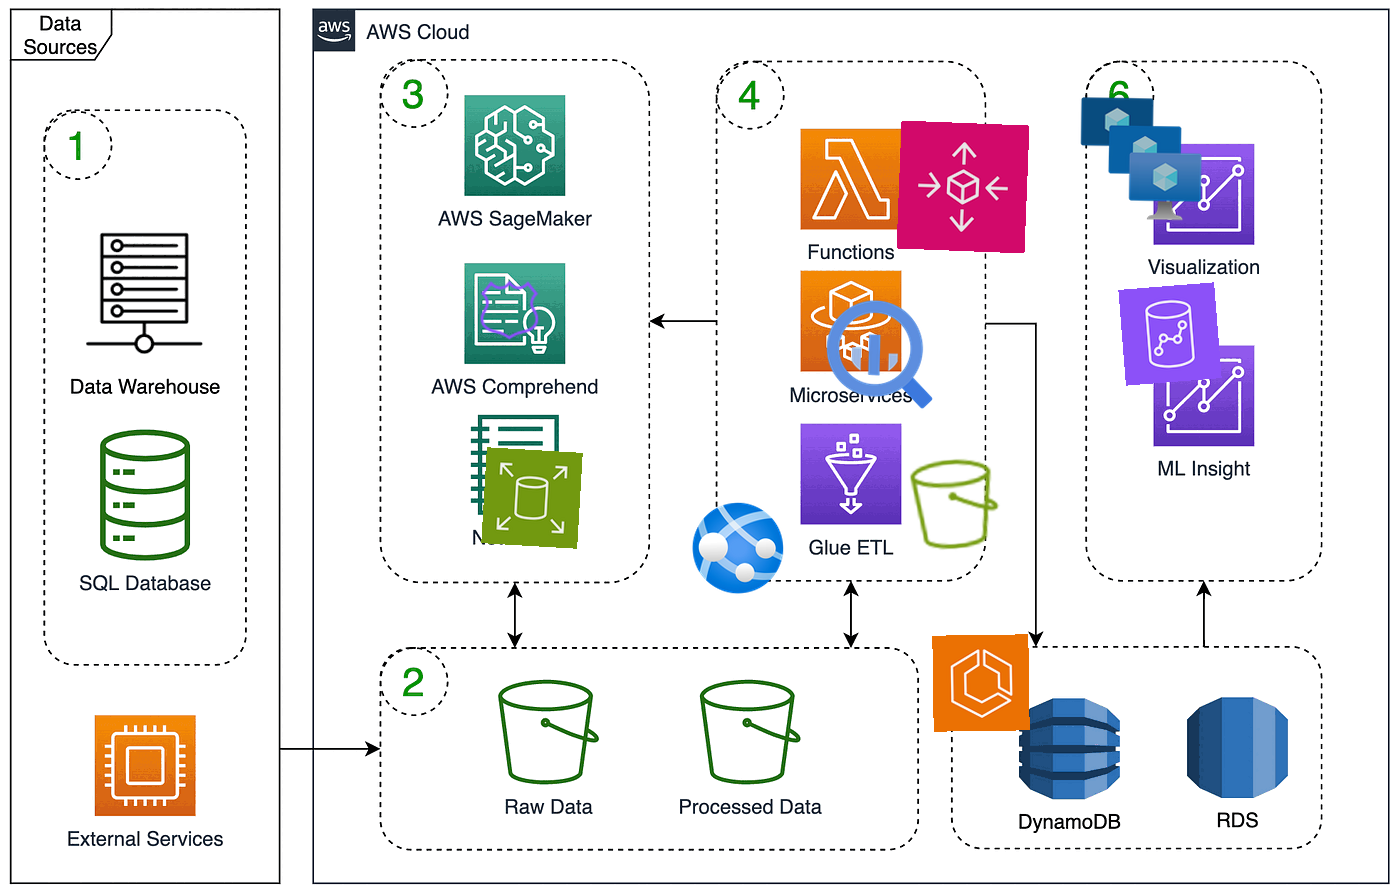aws_amazon_elastic_block_store: (481, 447, 583, 549)
aws_amazon_elastic_container_service: (932, 634, 1030, 732)
aws_amazon_redshift: (1118, 282, 1222, 386)
aws_auto_scaling: (896, 120, 1030, 254)
aws_route_53_hosted_zone: (477, 277, 543, 343)
aws_simple_storage_service_s3_standard: (903, 452, 1007, 556)
azure_app_services: (688, 498, 788, 598)
azure_vm_scale_sets: (1073, 90, 1205, 222)
gcp_bigquery: (814, 288, 946, 420)
